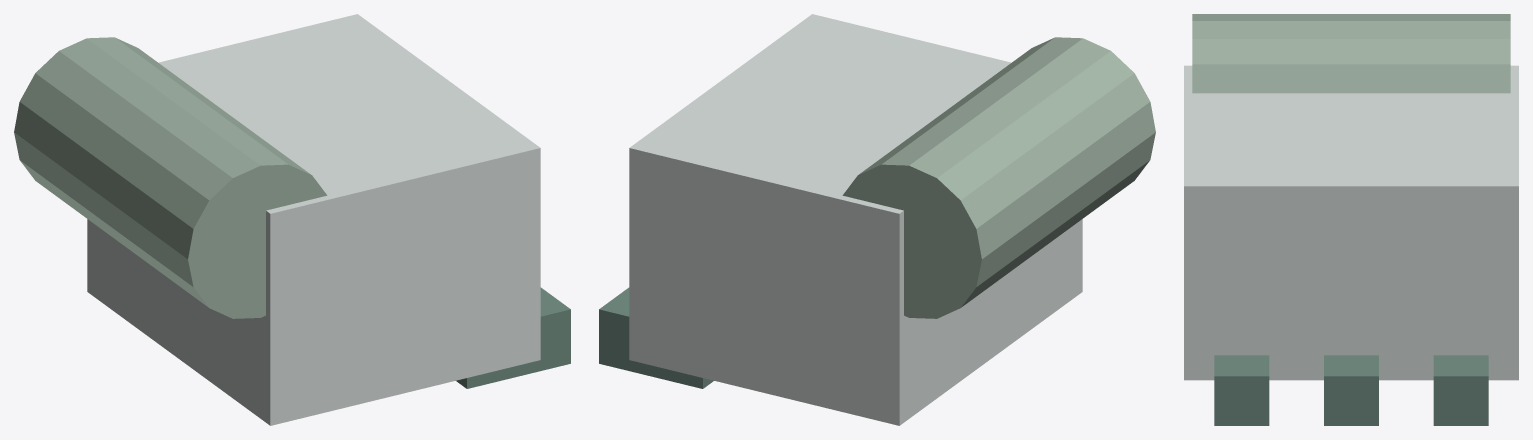
File: s7-f-e01-bucket.glb
3 renders of one model, left to right at view 1: azimuth 30°, elevation 25°; view 2: azimuth 150°, elevation 25°; view 3: azimuth 270°, elevation 25°, orthographic. The views are drawn at different scales.
Parts seen in each view (by area): view 1: bucket_001, hinge_005, buckettooth_004; view 2: bucket_001, hinge_005, buckettooth_002; view 3: bucket_001, hinge_005, buckettooth_002, buckettooth_004, buckettooth_003.
Boxes of the visible parts, bbox=[...] form: bucket_001: bbox=[87, 14, 540, 425]; hinge_005: bbox=[14, 37, 327, 318]; buckettooth_004: bbox=[456, 287, 570, 388]; bucket_001: bbox=[629, 14, 1082, 425]; hinge_005: bbox=[842, 37, 1155, 318]; buckettooth_002: bbox=[599, 287, 713, 388]; bucket_001: bbox=[1184, 65, 1518, 380]; hinge_005: bbox=[1192, 14, 1510, 93]; buckettooth_002: bbox=[1433, 355, 1488, 425]; buckettooth_004: bbox=[1214, 355, 1269, 425]; buckettooth_003: bbox=[1324, 355, 1378, 425].
Bounding box in the file's own units: 0.76 × 0.525 × 0.61.
